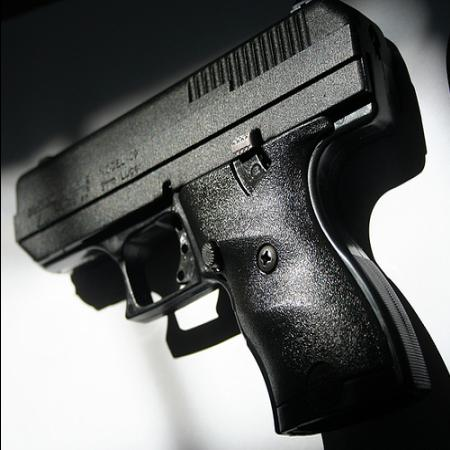Pistol: (11, 2, 427, 428)
